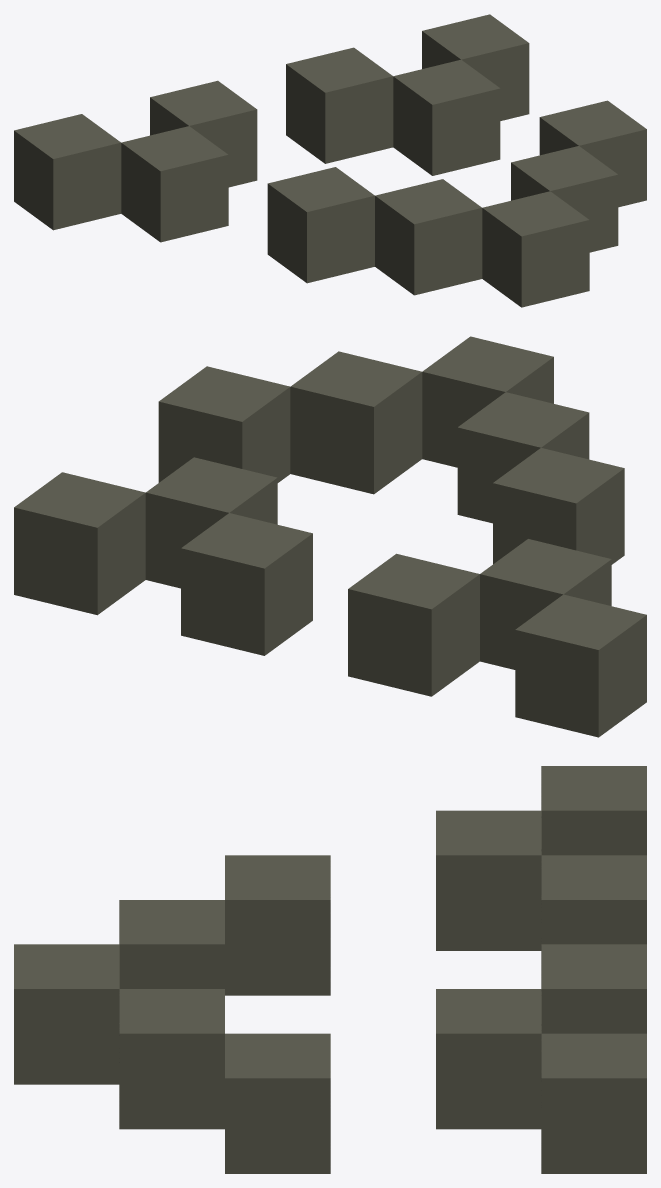
Rendered from Checkmarks.fbx.
The picture shows the model from 3 angles, top to bottom: view 1: azimuth 30°, elevation 25°; view 2: azimuth 150°, elevation 25°; view 3: azimuth 270°, elevation 25°; orthographic projection. The views are drawn at different scales.
Parts seen in each view (by area): view 1: Checkmars; view 2: Checkmars; view 3: Checkmars.
Part boxes in pixels (left/top/right/bottom): Checkmars: left=14, top=14, right=646, bottom=307; Checkmars: left=14, top=336, right=646, bottom=737; Checkmars: left=14, top=766, right=646, bottom=1173.
Size of the model in its own units: 87.5 by 12.5 by 75.
